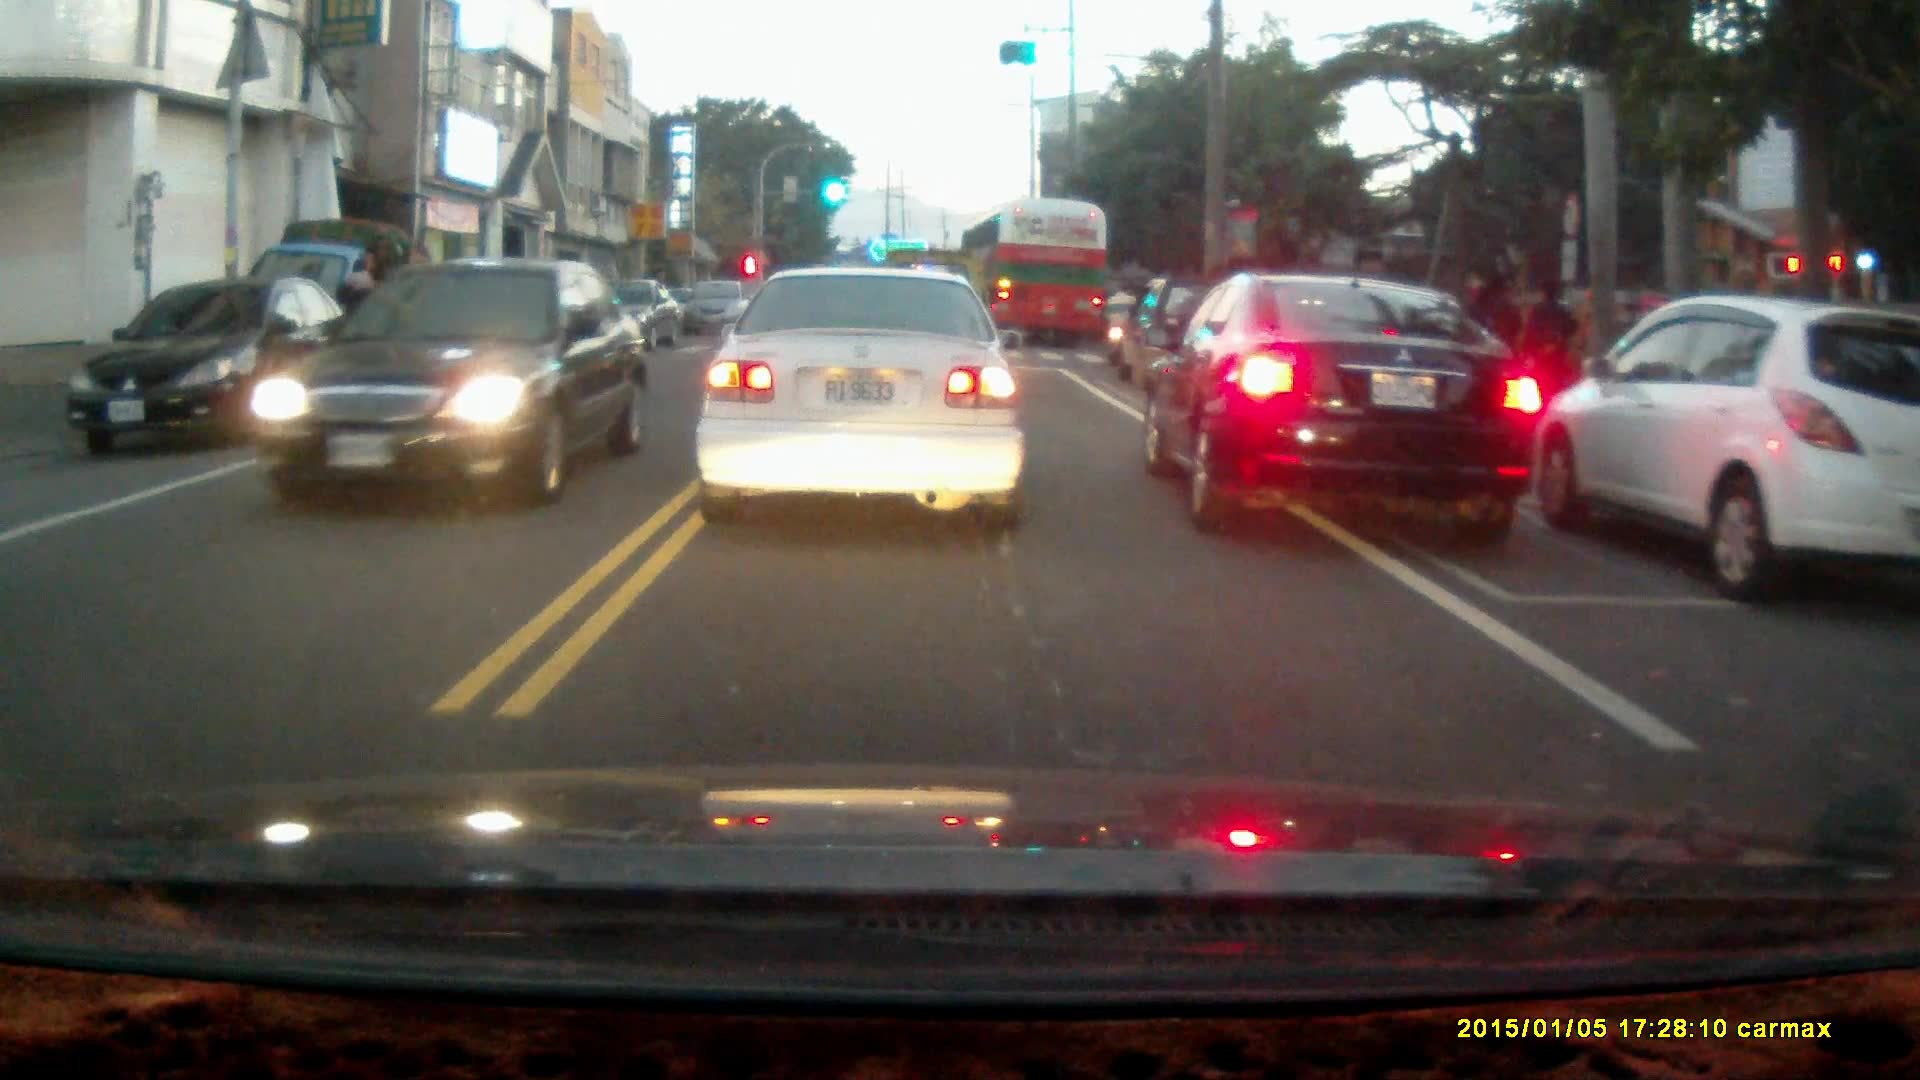pedestrian: (1522, 276, 1577, 412), (1467, 274, 1514, 405)
rider: (1101, 282, 1141, 363)
vehicle: (1521, 292, 1920, 611), (1144, 274, 1546, 540), (247, 257, 653, 507), (693, 263, 1028, 534), (69, 275, 358, 455), (231, 222, 456, 402), (962, 205, 1108, 354), (683, 280, 752, 339)
